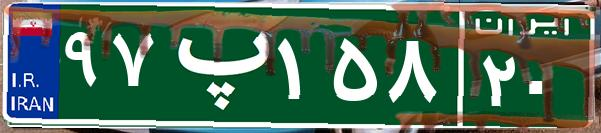0: (525, 38, 570, 115)
1: (273, 28, 330, 110)
2: (475, 38, 525, 113)
5: (330, 28, 385, 110)
7: (110, 28, 158, 105)
8: (385, 28, 445, 110)
9: (57, 26, 110, 107)
پ: (158, 15, 273, 115)
